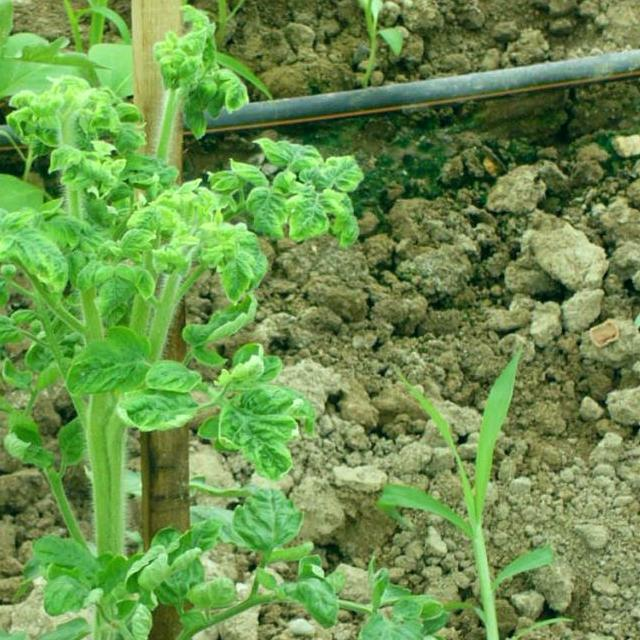Tomato leaf: (222, 387, 314, 479), (54, 327, 168, 399), (232, 483, 300, 567), (358, 607, 436, 640)
